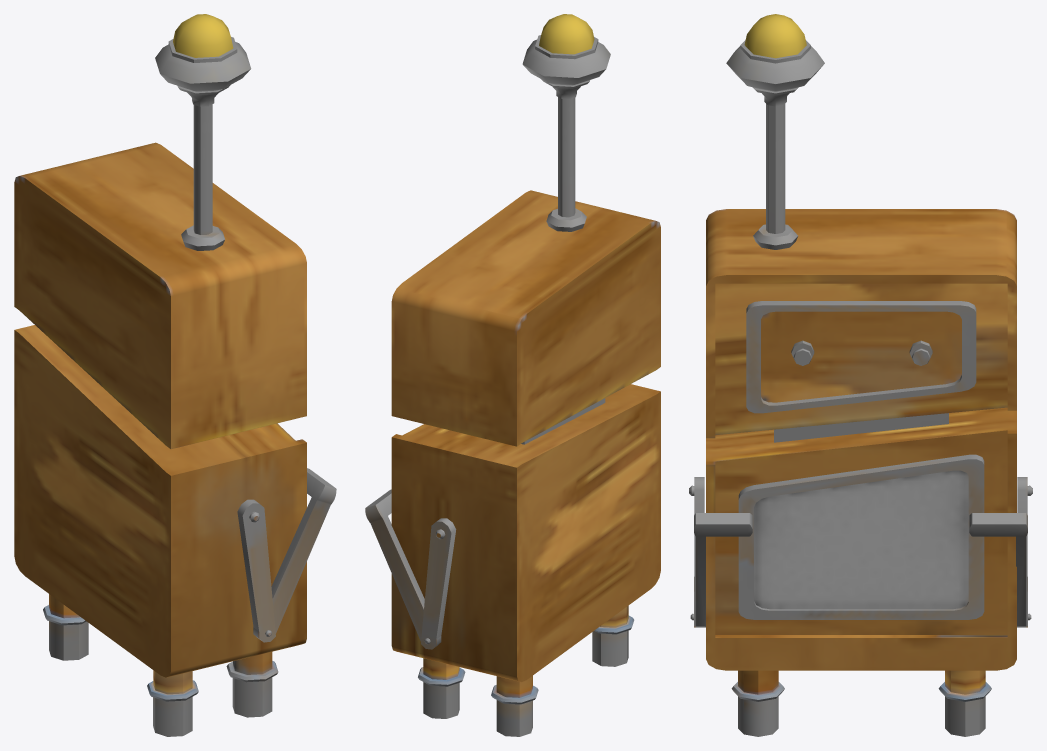
File: PROP_073_RoboFurniture.fbx
3 views of the same model, side by side, from view 1: azimuth 30°, elevation 25°; view 2: azimuth 150°, elevation 25°; view 3: azimuth 270°, elevation 25° (orthographic). The views are drawn at different scales.
Parts seen in each view (by area): view 1: Robo_001; view 2: Robo_001; view 3: Robo_001.
Part boxes in pixels (x1,y1,x2,y2): Robo_001: (14,14,336,736); Robo_001: (365,14,660,736); Robo_001: (689,14,1032,736).
Bounding box in the file's own units: 0.2429 × 1.01 × 0.4537.
Materials: 1 (1 with a texture image).
